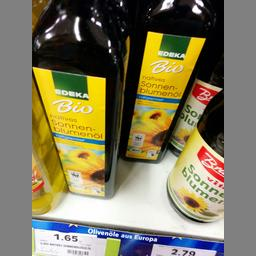oil: (32, 0, 122, 198), (121, 2, 210, 162)
